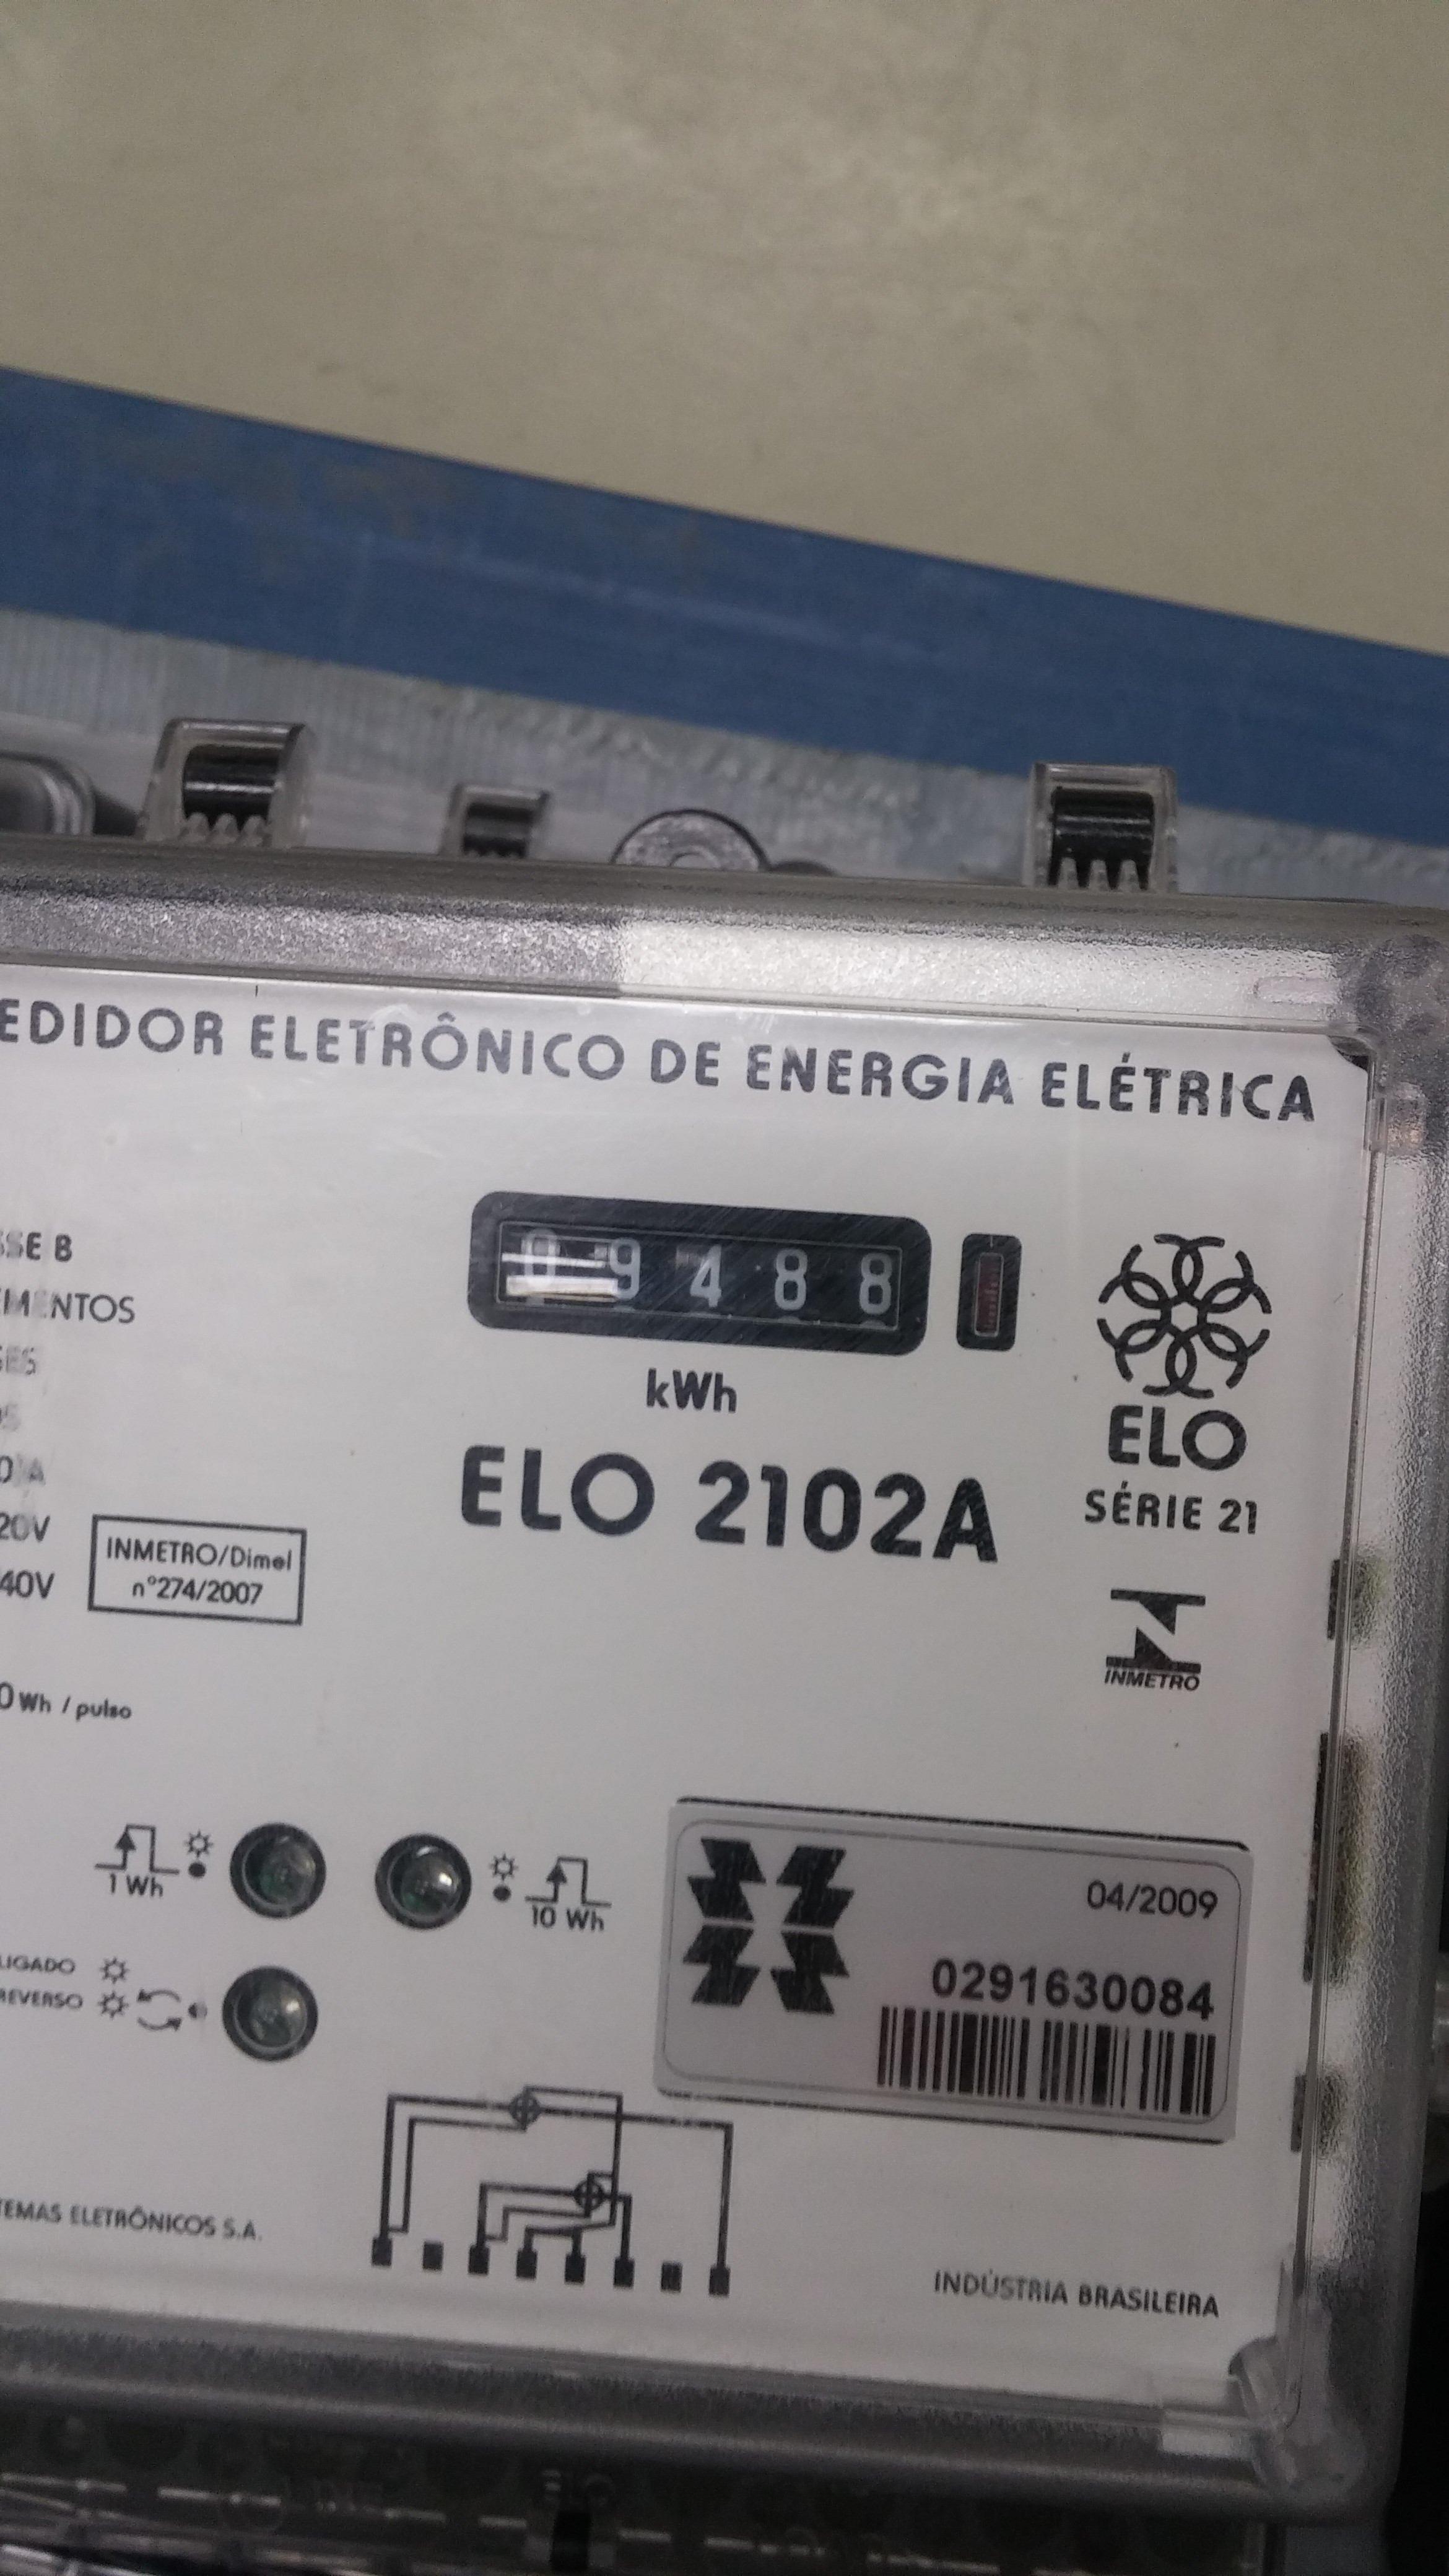counter2: (472, 1187, 948, 1368)
